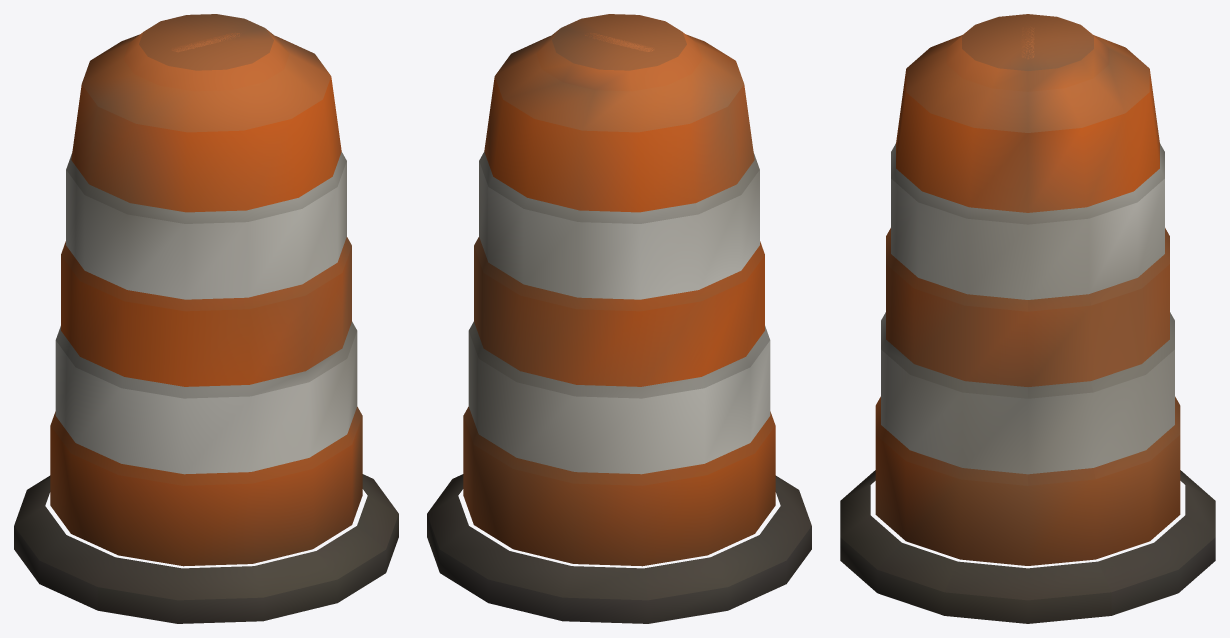
The model's file is traffic_barrel.glb.
3 views of the same model, side by side, from view 1: azimuth 30°, elevation 25°; view 2: azimuth 150°, elevation 25°; view 3: azimuth 270°, elevation 25° (orthographic).
Visible parts, largest first — view 1: TrafficBarrel; view 2: TrafficBarrel; view 3: TrafficBarrel.
Boxes of the visible parts, box(x1,y1,x2,y2) form: TrafficBarrel: box(14, 14, 398, 623); TrafficBarrel: box(427, 14, 811, 623); TrafficBarrel: box(840, 14, 1215, 623).
Bounding box in the file's own units: 0.74 × 1.06 × 0.7214.
